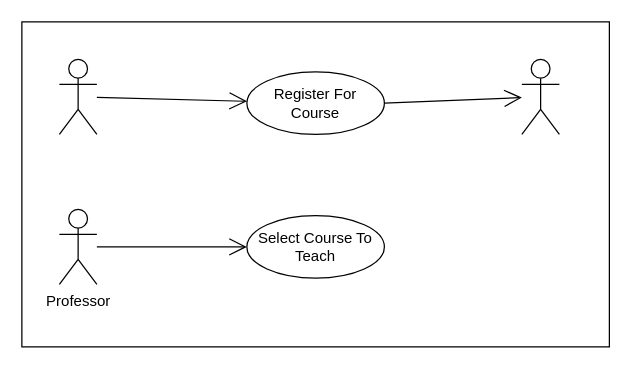
Image size: 631x369. Some labels were removed from this diagram. Here are the shapes that lost their labels. From the top down, the box of each, then its label:
(58, 58, 97, 134): Student
(521, 58, 559, 134): Billing System
